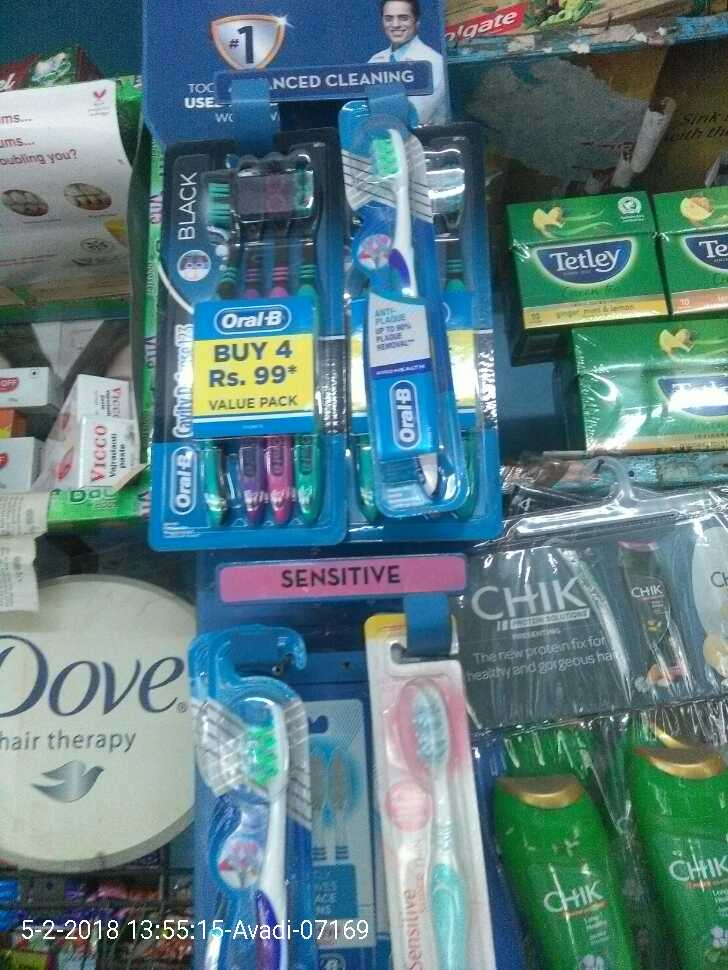oralb: (192, 171, 322, 519), (354, 122, 461, 496)
